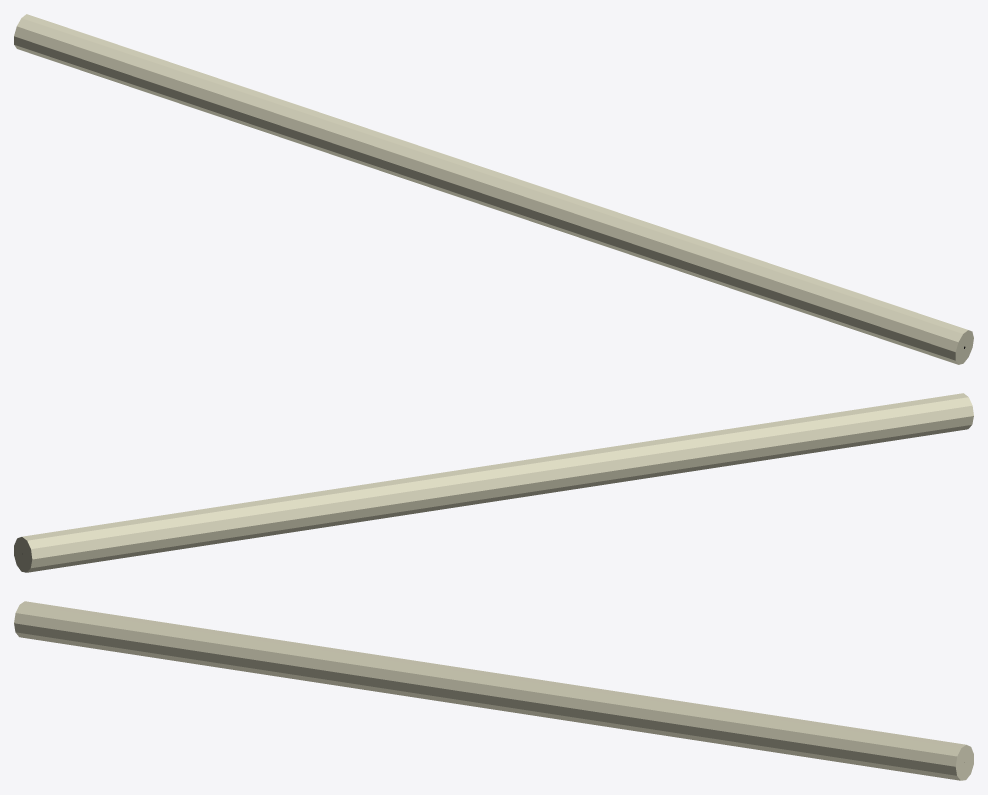
Rendered from tile_229.glb.
3 renders of one model, top to bottom at view 1: azimuth 90°, elevation 25°; view 2: azimuth 150°, elevation 25°; view 3: azimuth 270°, elevation 25°, orthographic.
Bounding box in the file's own units: 3.9 × 0.8897 × 6.51.
